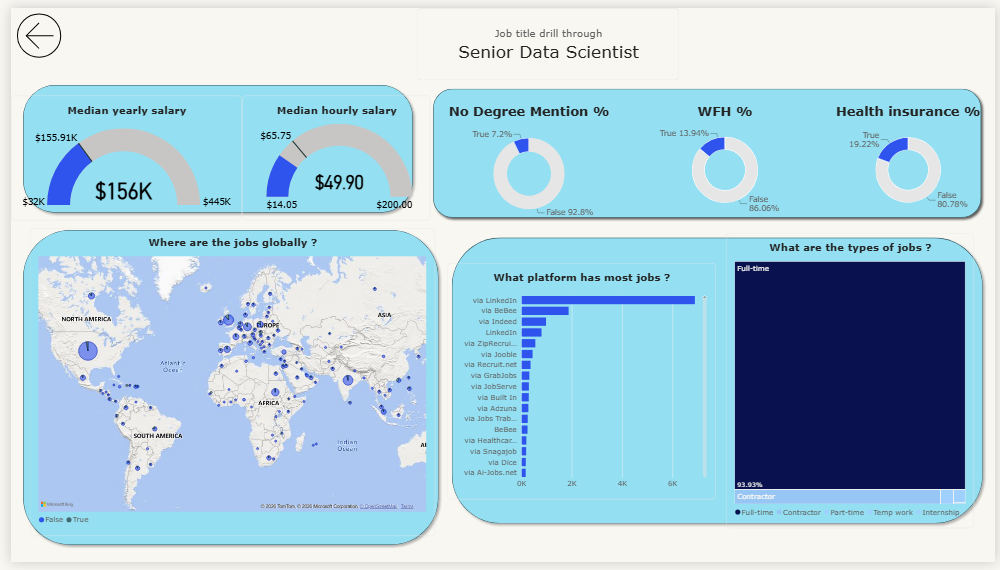

This screenshot's page, from the dashboard's own definition file:
{"tool":"powerbi","page":{"name":"Job Title Drill Through","canvas":[1920,1080],"ordinal":1},"visuals":[{"type":"group","id":"g1","title":"Background","box":[15.5,142.5,1889.8,915.1],"z":0},{"type":"cardVisual","fields":{"Data":["Min(job_postings_flat.job_title_short)"]},"box":[793,0,511.3,141.9],"z":1000},{"type":"actionButton","box":[0,0,110.4,108.6],"z":2000},{"type":"shape","box":[851.4,439.8,1053.9,576],"z":2000,"group":"g1"},{"type":"shape","box":[15.5,142.5,778.4,267.1],"z":3000,"group":"g1"},{"type":"gauge","title":"Median yearly salary","fields":{"MaxValue":["Max(job_postings_flat.salary_year_avg)1"],"MinValue":["Min(job_postings_flat.salary_year_avg)"],"TargetValue":["Avg(job_postings_flat.salary_year_avg)2"],"Y":["Median(job_postings_flat.salary_year_avg)"]},"box":[0,170.1,450.6,244.3],"z":3000},{"type":"shape","box":[815.9,148.9,1087.3,269.2],"z":4000,"group":"g1"},{"type":"gauge","title":"Median hourly salary","fields":{"MaxValue":["Max(job_postings_flat.salary_hour_avg)2"],"MinValue":["Min(job_postings_flat.salary_hour_avg)1"],"TargetValue":["Avg(job_postings_flat.salary_hour_avg)3"],"Y":["Median(job_postings_flat.salary_hour_avg)"]},"box":[450.6,170.1,367.4,244.3],"z":4000},{"type":"donutChart","title":"No Degree Mention %","fields":{"Category":["job_postings_flat.job_no_degree_mention"],"Y":["CountNonNull(job_postings_flat.job_no_degree_mention)"]},"box":[818,170.1,387.3,258.8],"z":5000},{"type":"shape","box":[16.6,425.2,828.5,632.3],"z":5000,"group":"g1"},{"type":"donutChart","title":"Health insurance %","fields":{"Category":["job_postings_flat.job_health_insurance"],"Y":["CountNonNull(job_postings_flat.job_health_insurance)"]},"box":[1579.8,170.1,340.2,244.3],"z":6000},{"type":"donutChart","title":"WFH %","fields":{"Category":["job_postings_flat.job_work_from_home"],"Y":["CountNonNull(job_postings_flat.job_work_from_home)"]},"box":[1205.2,170.1,376.4,244.3],"z":7000},{"type":"map","title":"Where are the jobs globally ?","fields":{"Category":["job_postings_flat.job_country"],"Series":["job_postings_flat.job_no_degree_mention"],"Size":["CountNonNull(job_postings_flat.job_title_short)"]},"box":[35.5,429.9,791,601],"z":8000},{"type":"treemap","title":"What are the types of jobs ?","fields":{"Group":["job_postings_flat.job_schedule_type"],"Values":["CountNonNull(job_postings_flat.job_schedule_type)"]},"box":[1394.1,438.3,484.2,576],"z":9000},{"type":"barChart","title":"What platform has most jobs ?","fields":{"Category":["job_postings_flat.job_via"],"Y":["CountNonNull(job_postings_flat.job_via)"]},"box":[851.5,496.7,523.8,461.2],"z":10000}]}

Visuals, with their boxes in screenshot pixels (x1, y1, x2, y2), scaled from the page's 1920x1080 canvas onto the 1000x570 screenshot:
"Background" group: 8:75:992:558
cardVisual - Min(job_postings_flat.job_title_short): 413:0:679:75
actionButton: 0:0:58:57
shape: 443:232:992:536
shape: 8:75:413:216
"Median yearly salary" gauge: 0:90:235:219
shape: 425:79:991:221
"Median hourly salary" gauge: 235:90:426:219
"No Degree Mention %" donutChart: 426:90:628:226
shape: 9:224:440:558
"Health insurance %" donutChart: 823:90:999:219
"WFH %" donutChart: 628:90:824:219
"Where are the jobs globally ?" map: 18:227:430:544
"What are the types of jobs ?" treemap: 726:231:978:535
"What platform has most jobs ?" barChart: 443:262:716:506
